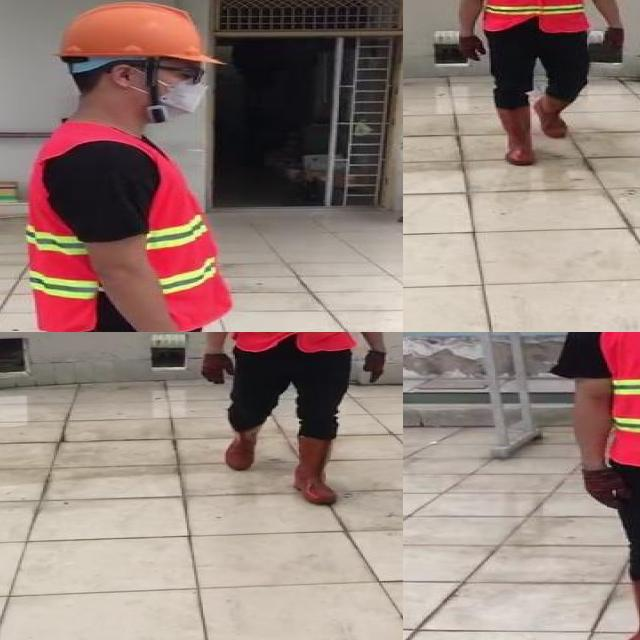boots: (294, 432, 340, 505), (492, 107, 534, 164), (224, 422, 262, 471), (530, 93, 571, 137), (619, 576, 640, 640)
face_mask: (151, 58, 218, 121)
hand_glove: (582, 469, 628, 511), (458, 36, 488, 62), (603, 25, 628, 48)
head_helmet: (55, 0, 213, 64)
person: (0, 0, 253, 332), (188, 332, 397, 517), (449, 0, 634, 166), (557, 332, 640, 640)
vest: (26, 124, 232, 332), (480, 0, 588, 32)
